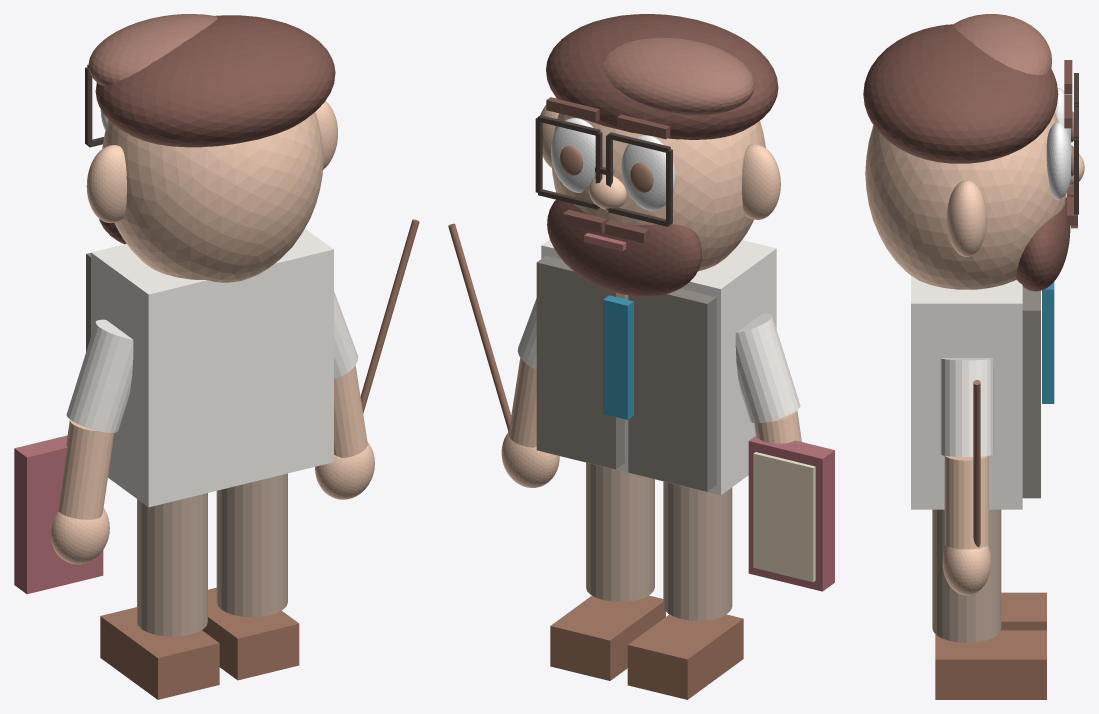
File: MewtionaryTeacher_3D_Blockout_v2.0.glb
The picture shows the model from 3 angles, left to right: view 1: azimuth 30°, elevation 25°; view 2: azimuth 150°, elevation 25°; view 3: azimuth 270°, elevation 25°; orthographic projection. The views are drawn at different scales.
Parts seen in each view (by area): view 1: Torso_Shirt, Head, Hair_Top, Leg_R, Leg_L, Book_Closed, Foot_L, UpperArm_L, Foot_R, Hair_Sweep, Forearm_L, Ear_L (+6 smaller); view 2: Vest_L, Vest_R, Hair_Top, Head, Torso_Shirt, Leg_L, Hair_Sweep, Leg_R, Beard, Foot_L, Book_Page, Foot_R (+16 smaller); view 3: Head, Hair_Top, Torso_Shirt, Foot_R, Leg_R, UpperArm_R, Vest_R, Hair_Sweep, Forearm_R, Beard, Ear_R, Hand_R (+5 smaller).
Boxes of the visible parts, x1,y1,x2,y2 form: Torso_Shirt: (91,228,333,507); Head: (102,112,323,282); Hair_Top: (95,15,335,147); Leg_R: (216,473,287,617); Leg_L: (137,493,207,636); Book_Closed: (14,435,103,594); Foot_L: (100,607,219,699); UpperArm_L: (66,319,133,432); Foot_R: (202,587,299,680); Hair_Sweep: (88,14,217,85); Forearm_L: (58,419,114,519); Ear_L: (86,145,126,223); Vest_L: (628,288,716,491); Vest_R: (536,256,624,469); Hair_Top: (546,14,778,139); Head: (551,113,765,271); Torso_Shirt: (541,239,776,495); Leg_L: (663,481,732,620); Hair_Sweep: (603,37,754,115); Leg_R: (586,462,654,601); Beard: (547,199,701,296); Foot_L: (627,614,743,699); Book_Page: (753,452,815,582); Foot_R: (550,595,665,680); Head: (865,112,1066,289); Hair_Top: (863,24,1058,163); Torso_Shirt: (911,276,1022,509); Foot_R: (935,630,1046,699); Leg_R: (932,509,1001,642); UpperArm_R: (940,358,993,456); Vest_R: (1022,287,1040,498); Hair_Sweep: (953,14,1051,74); Forearm_R: (944,456,988,549); Beard: (1016,197,1070,291); Ear_R: (946,180,987,256); Hand_R: (942,545,991,595).
Size of the model in its own units: 2.18 by 3.38 by 1.09.
